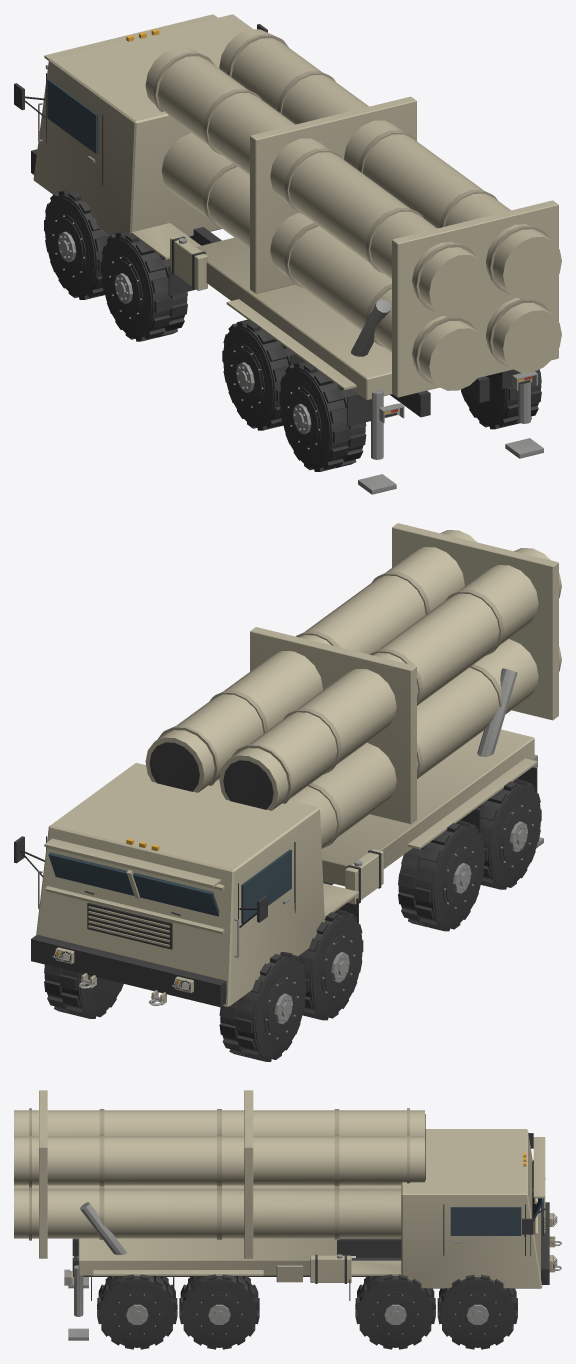
Rendered from rus_aa_s400.glb.
3 renders of one model, top to bottom at view 1: azimuth 30°, elevation 25°; view 2: azimuth 150°, elevation 25°; view 3: azimuth 270°, elevation 25°, orthographic. The views are drawn at different scales.
Parts seen in each view (by area): view 1: barrel, body, turret, wheel_6, wheel_2, wheel_4, wheel_0, wheel_7; view 2: barrel, body, turret, wheel_4, wheel_0, wheel_6, wheel_2, wheel_1; view 3: barrel, body, turret, wheel_5, wheel_7, wheel_3, wheel_1.
Boxes of the visible parts, x1,y1,x2,y2 form: barrel: (145,29,561,397); body: (14,14,543,494); turret: (196,237,392,400); wheel_6: (279,361,366,471); wheel_2: (100,231,187,341); wheel_4: (222,319,293,430); wheel_0: (44,190,109,299); wheel_7: (461,369,541,429); barrel: (145,523,561,848); body: (14,755,543,1007); turret: (321,668,534,886); wheel_4: (398,820,484,931); wheel_0: (219,952,306,1061); wheel_6: (476,779,541,889); wheel_2: (298,909,363,1020); wheel_1: (44,964,123,1018); barrel: (14,1090,425,1258); body: (64,1129,561,1340); turret: (78,1202,336,1275); wheel_5: (179,1274,259,1349); wheel_7: (97,1274,177,1349); wheel_3: (355,1274,435,1349); wheel_1: (437,1274,517,1349).
Bounding box in the file's own units: 3.5 × 3.65 × 9.33.
